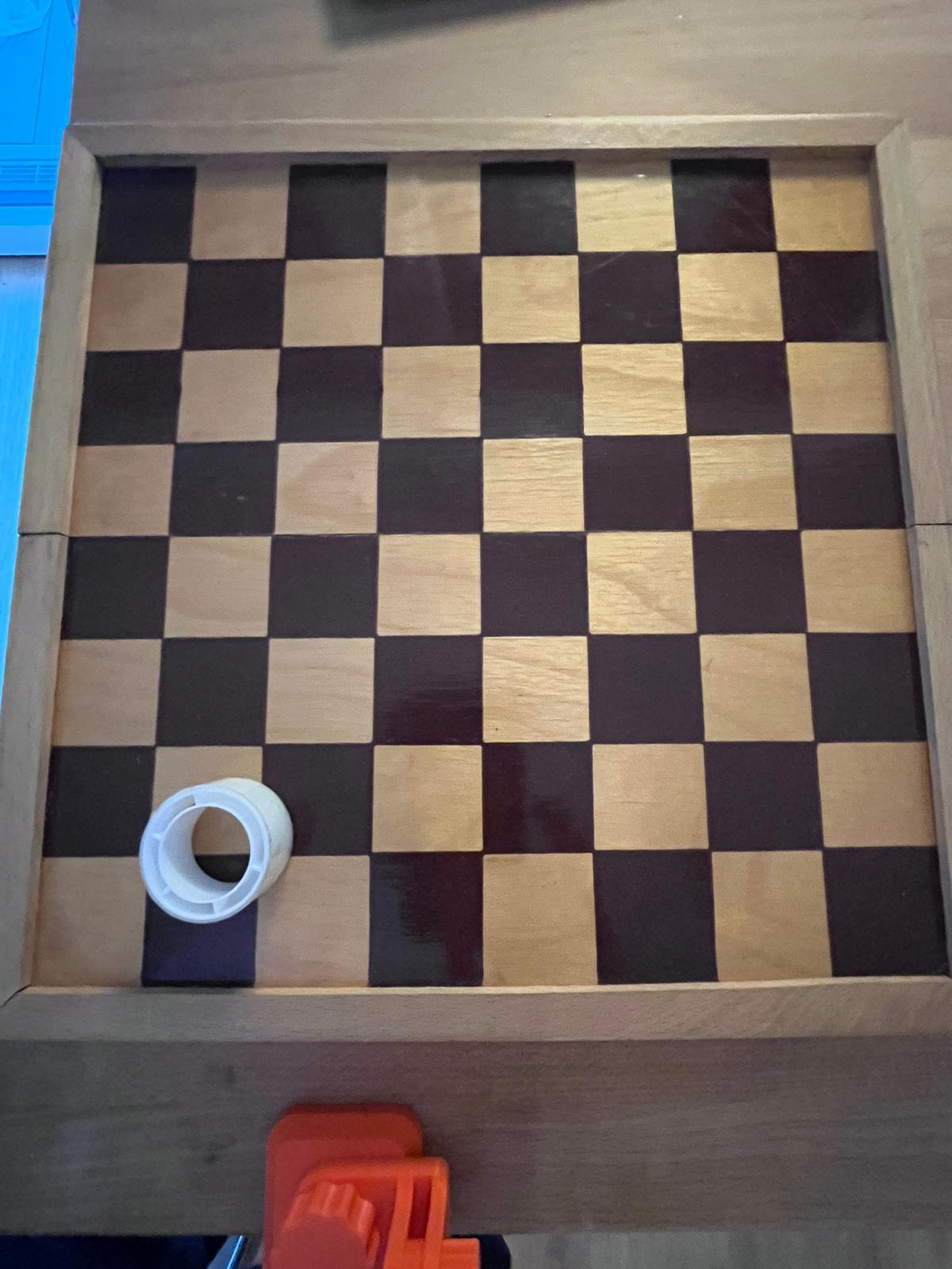tape: (136, 774, 297, 926)
